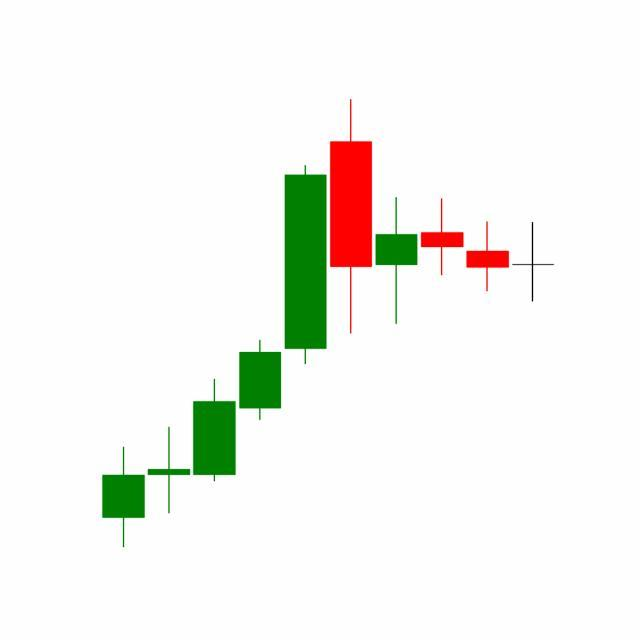Hikkake Pattern: (283, 100, 512, 370)
